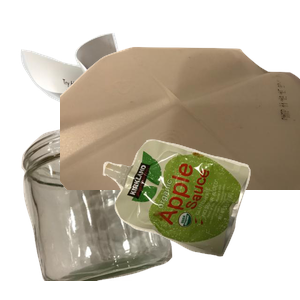glass: (19, 120, 184, 300)
paper: (18, 30, 213, 210)
plastic: (60, 44, 300, 224)
trash: (100, 137, 300, 300)
